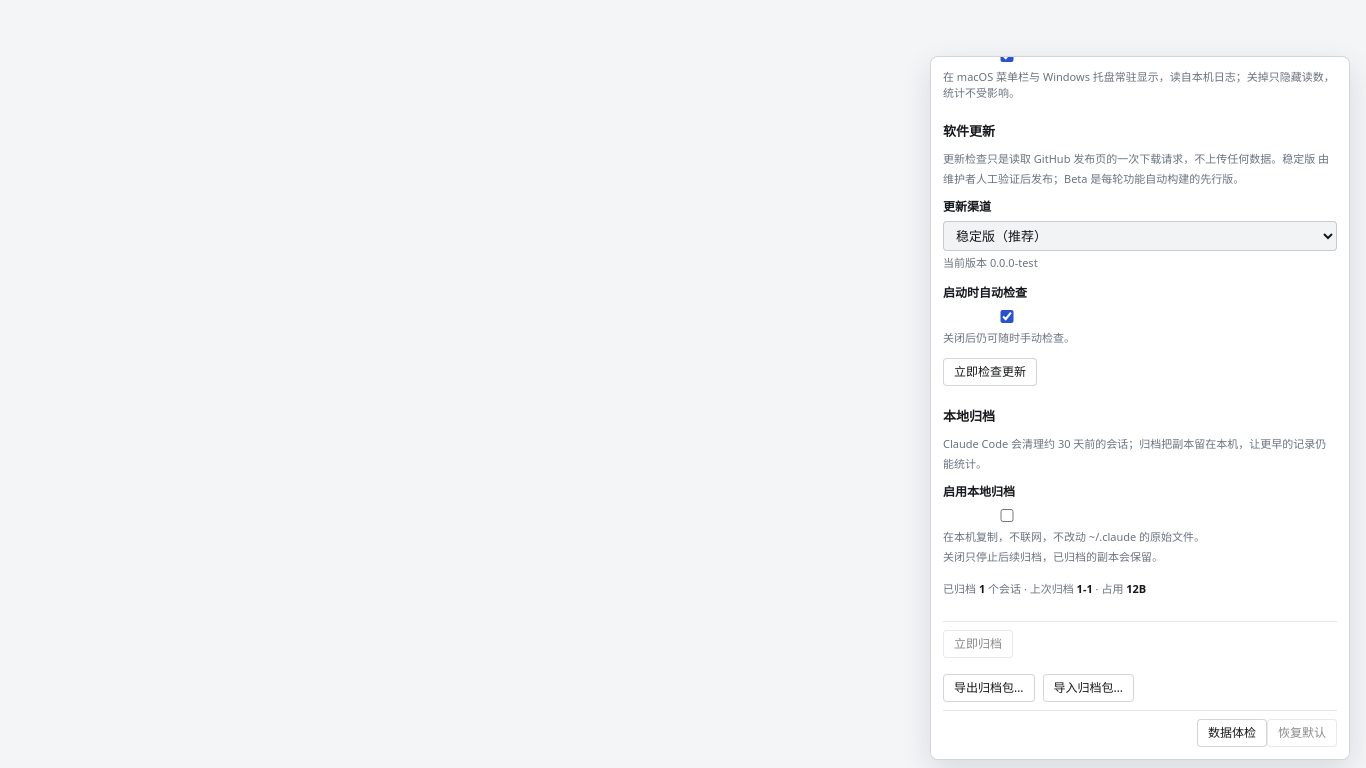
Test case: 归档包（Issue #152） › 口令只在内存里：跑完不落 localStorage，输入框也清空
(page scrolled)
Click the button "导出归档包…" at (989, 688), box [943, 674, 1034, 702]
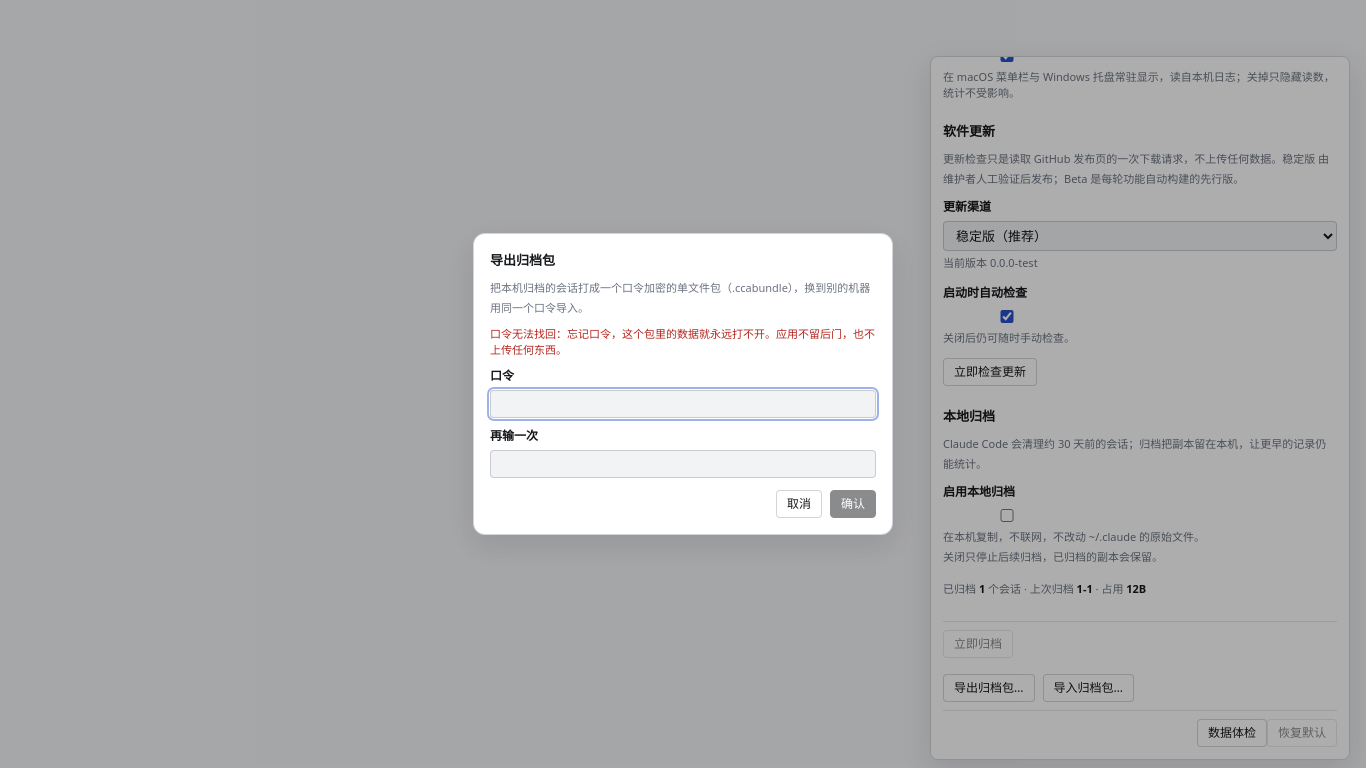
Type "s3cret-passphrase-9f2" into the password field labelled "口令" at (683, 404), box [490, 390, 876, 418]
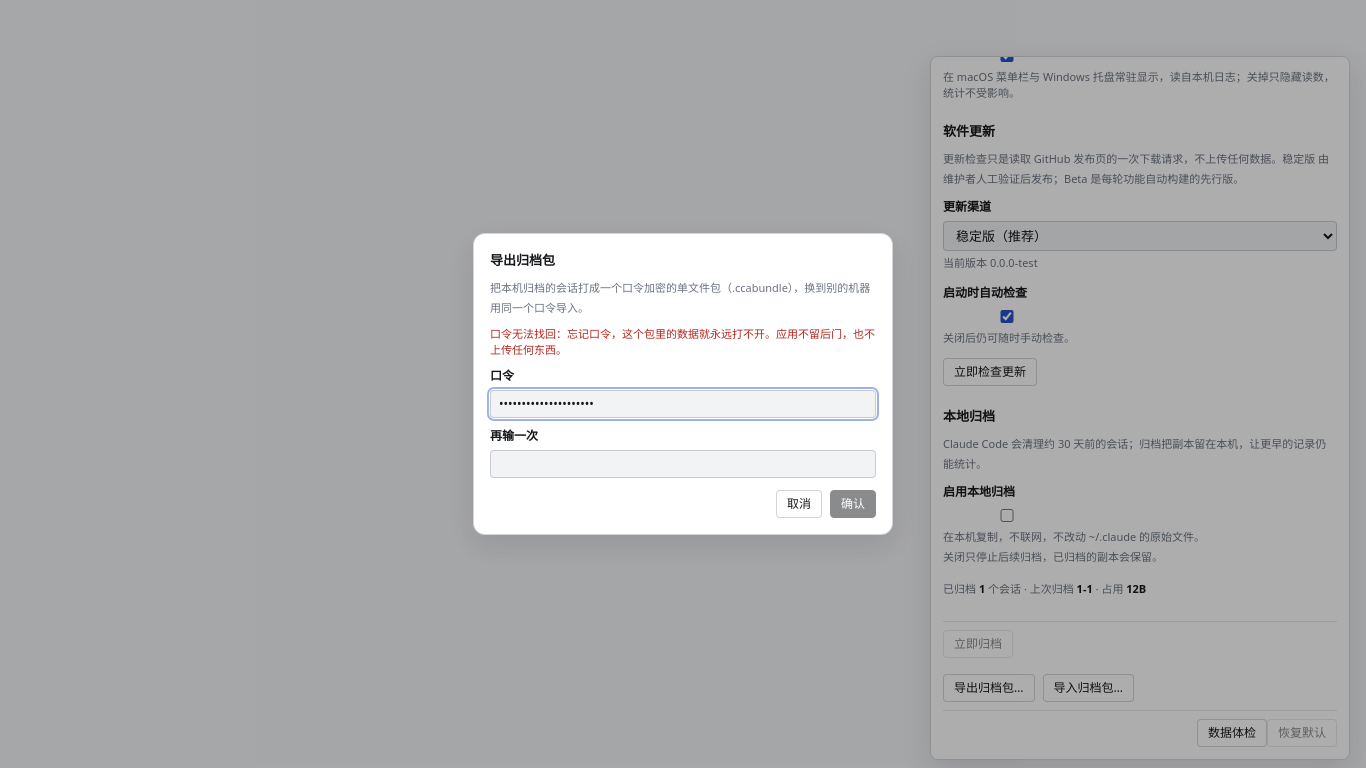
Type "s3cret-passphrase-9f2" into the password field labelled "再输一次" at (683, 464), box [490, 450, 876, 478]
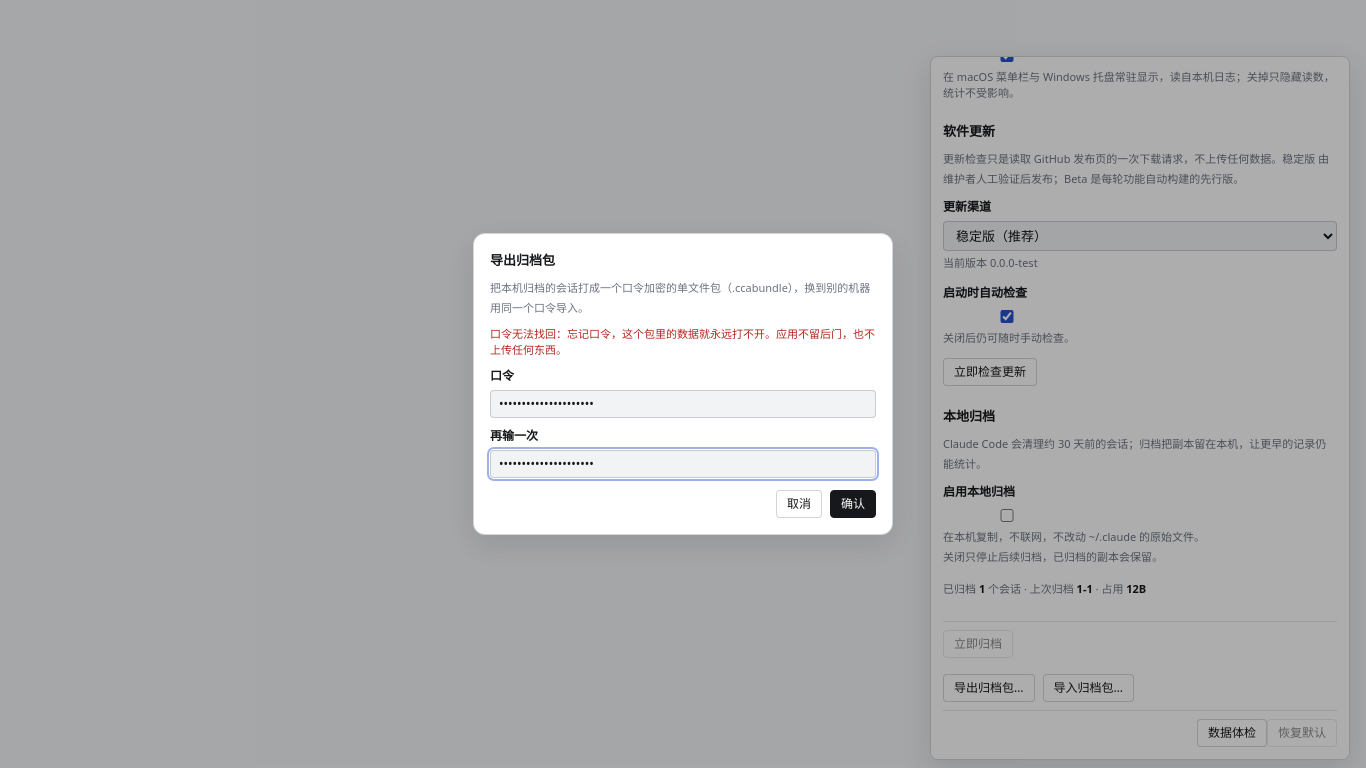
Click the button "确认" at (853, 504), box [830, 490, 876, 518]
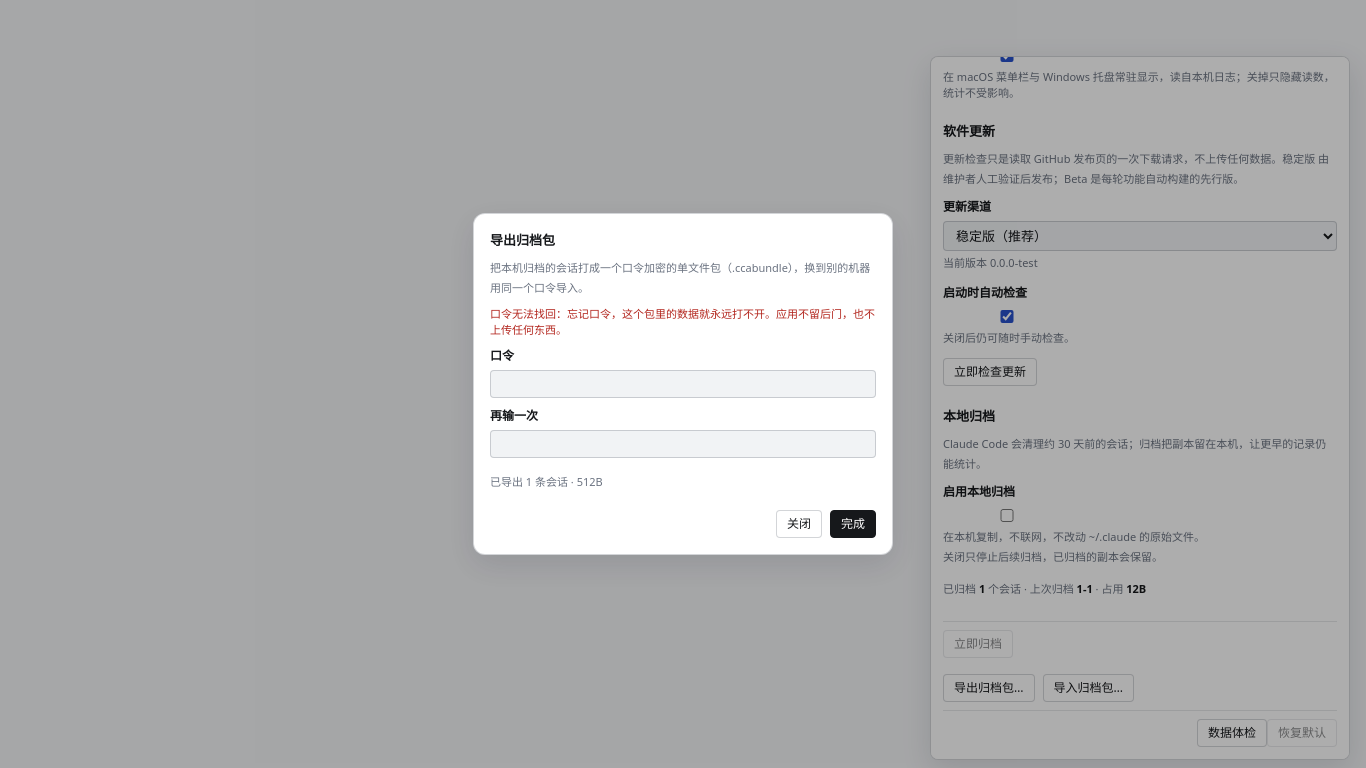
Expected: the text "已导出 1 条会话 · 512B" is shown, [490, 474, 603, 489]
Expected: the password field labelled "口令" is empty, [490, 370, 876, 398]
Expected: the password field labelled "再输一次" is empty, [490, 430, 876, 458]
